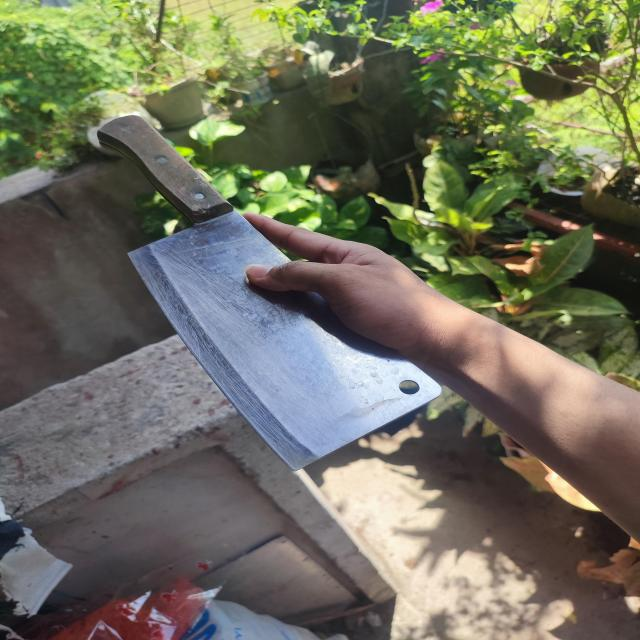knife: (96, 113, 442, 471)
